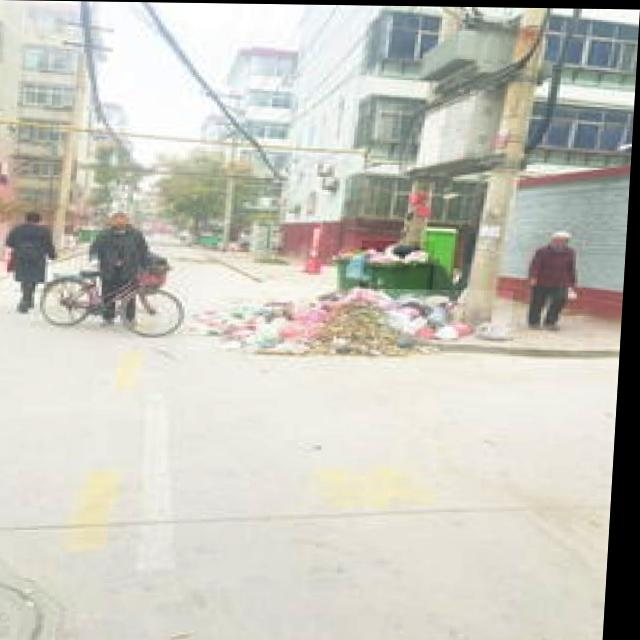garbage: (190, 285, 517, 354)
overflow: (363, 240, 438, 295)
